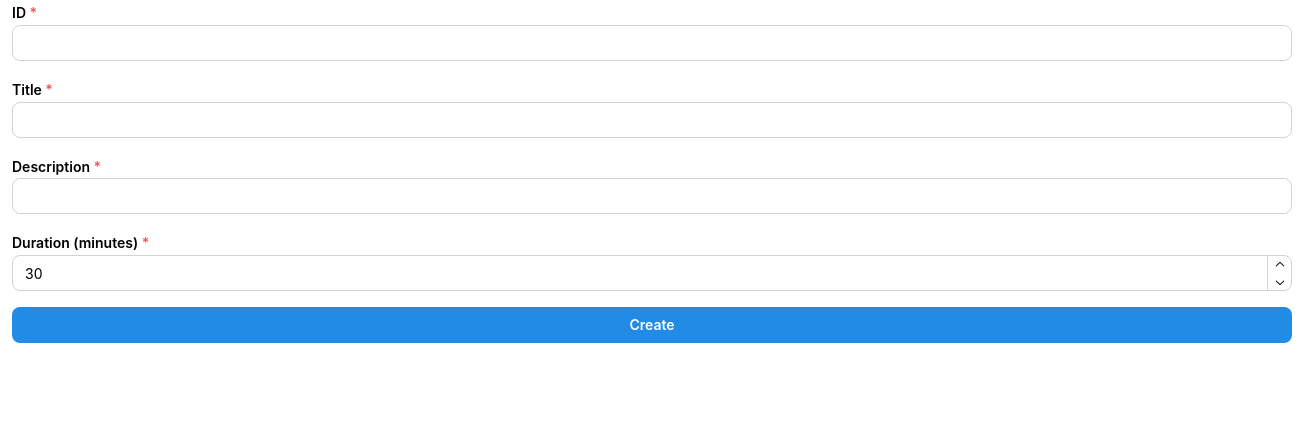
CreateEventTypeForm › показывает ошибку при ApiError
Type "intro" into the field labelled "ID *" at coordinates (652, 43), box [12,25,1292,61]
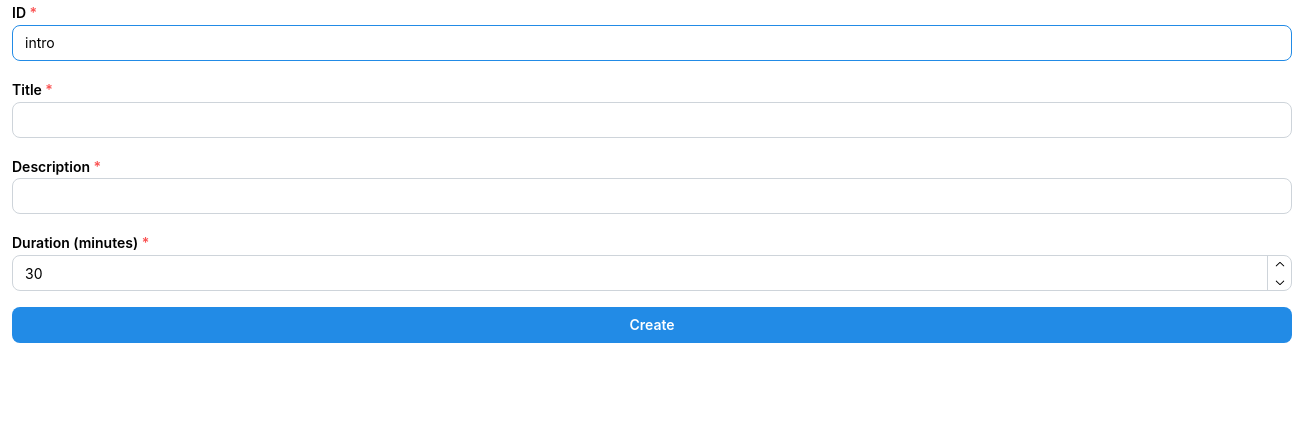
Type "Intro" into the field labelled "Title *" at coordinates (652, 120), box [12,102,1292,138]
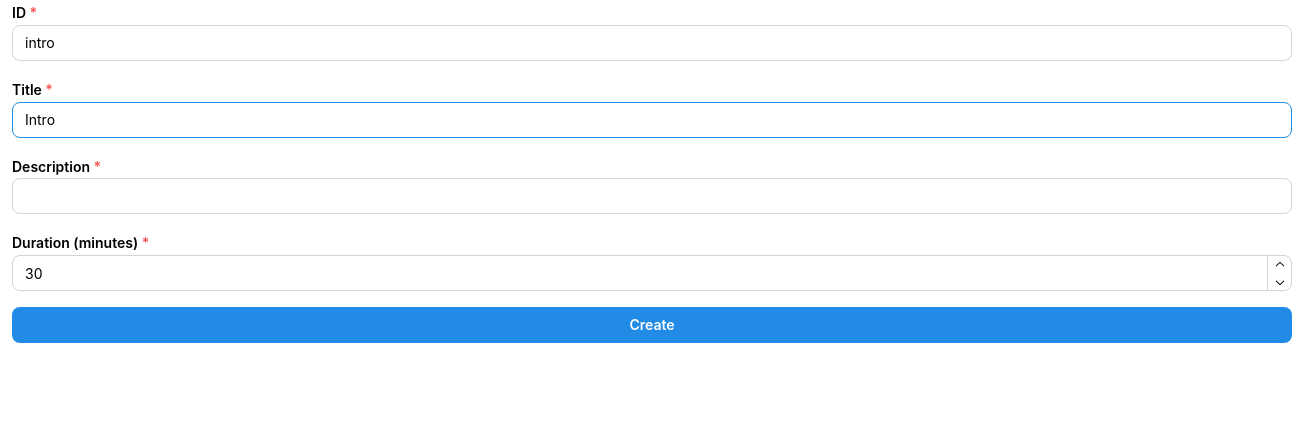
Type "Desc" into the field labelled "Description *" at coordinates (652, 196), box [12,178,1292,214]
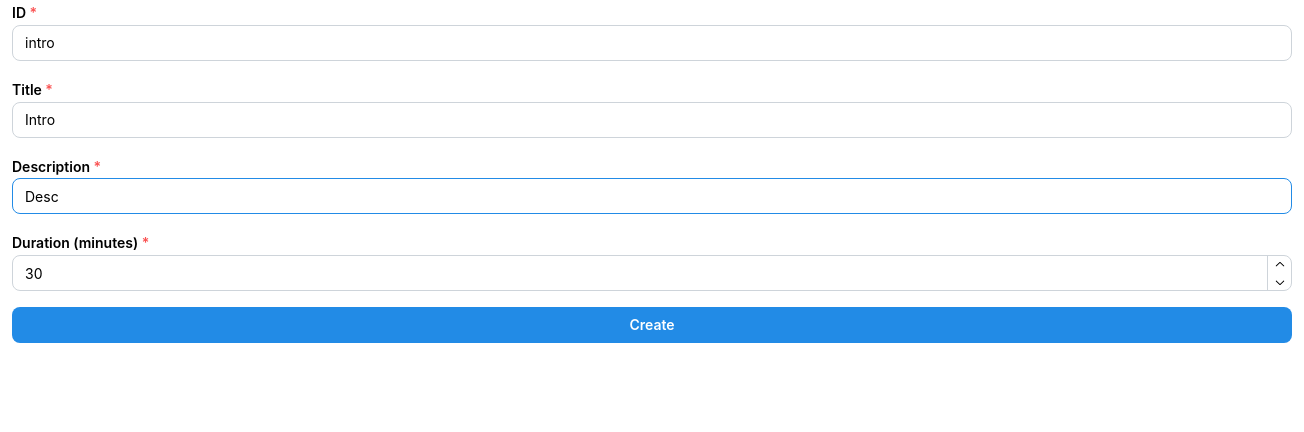
Click the button "Create" at coordinates (652, 325), box [12,307,1292,343]
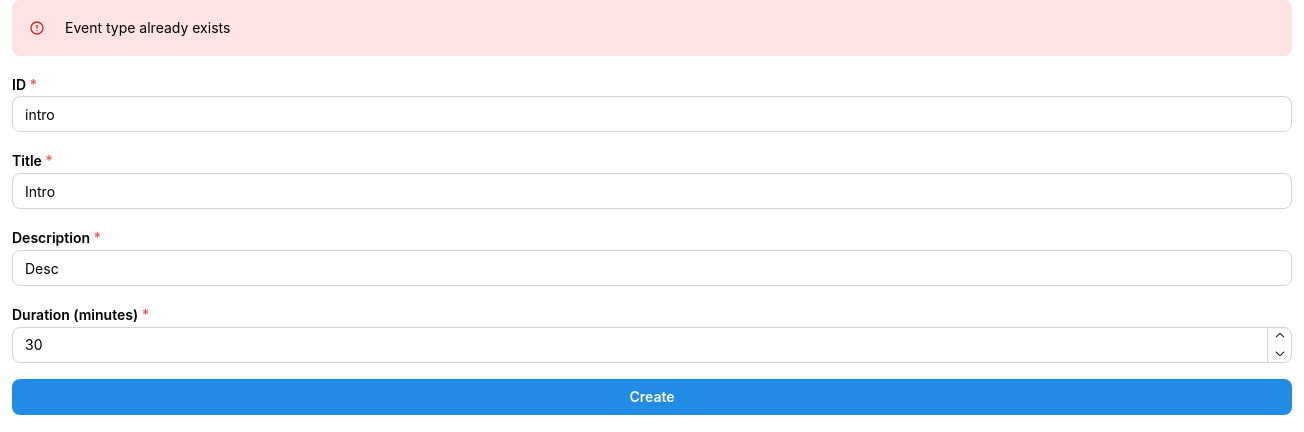
Now the text "Event type already exists" is shown, box [65,19,230,36]
